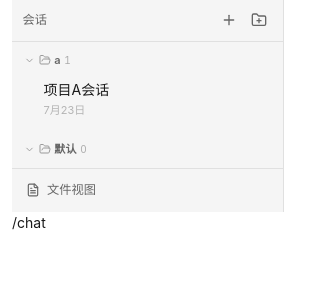
Scenario: SessionList › placeholder disappears once a session is selected
Step 1. Hover over the button named "分组 a" → (48, 60), box [24,53,71,67]
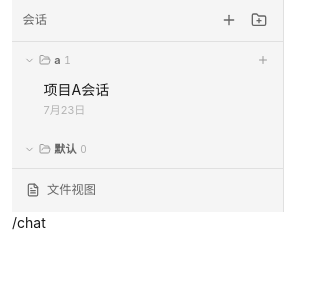
Step 2. Click the button named "在 a 新建会话" → (263, 60), box [255,52,271,68]
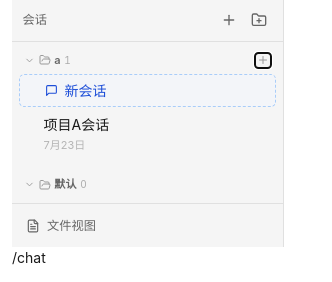
Expected: the button "新会话" is shown, [19,74,276,107]
选中已有会话 → 占位消失（新会话不再进行中）
Step 3. Click the text "项目A会话" → (76, 125), box [44,114,109,135]
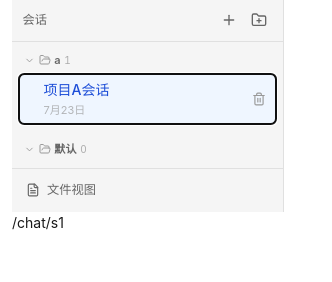
Expected: the button "新会话" is gone
